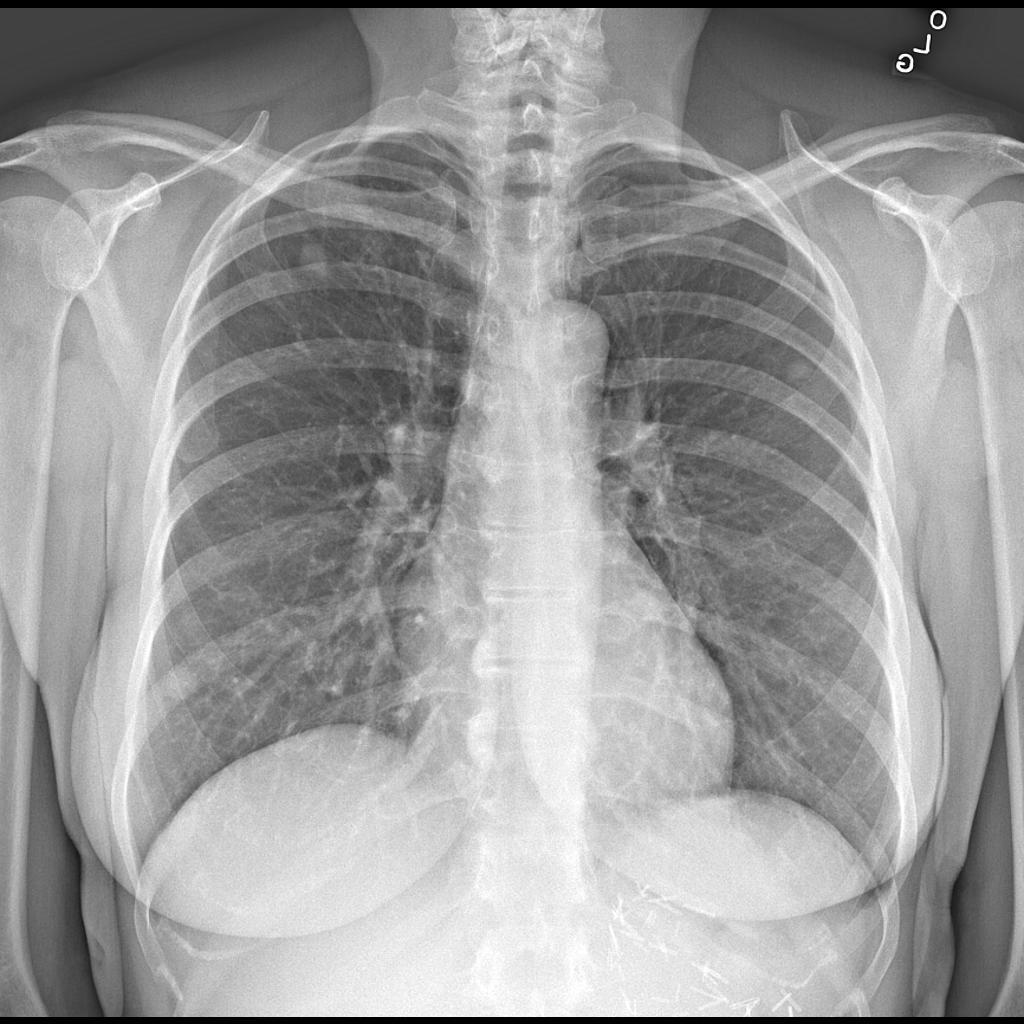Nodule: (290, 231, 336, 285), (162, 662, 203, 709), (628, 584, 664, 631)
